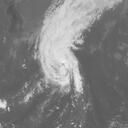cyclone: (40, 35, 84, 94)
